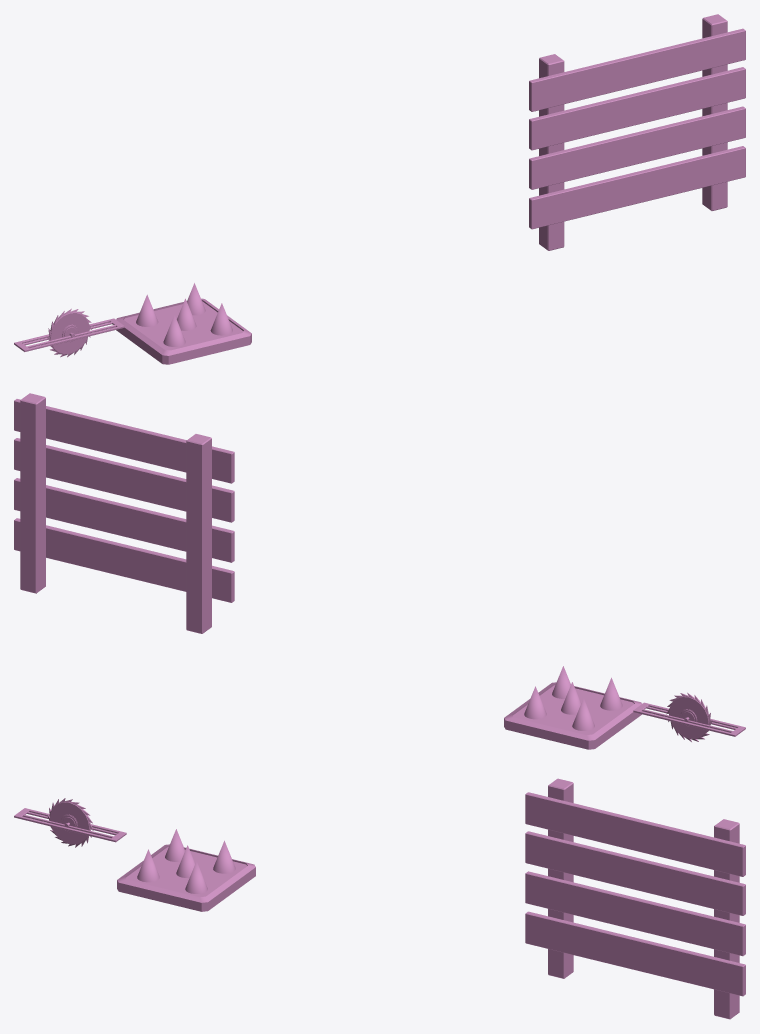
File: Traps.fbx
3 renders of one model, top to bottom at view 1: azimuth 30°, elevation 25°; view 2: azimuth 150°, elevation 25°; view 3: azimuth 330°, elevation 25°, orthographic.
Parts seen in each view (by area): view 1: Plank2, Plank, Plank3, Plank1, Base, Supporter, Supporter1, pCylinder1, pCube1; view 2: Plank2, Plank, Plank1, Plank3, Supporter1, Supporter, Base, pCylinder1, pCube1; view 3: Plank, Plank3, Plank1, Plank2, Base, Supporter1, Supporter, pCylinder1, pCube1, Spike, Spike4, Spike1.
Boxes of the visible parts, bbox=[...] form: Plank2: bbox=[529, 28, 745, 111]; Plank: bbox=[529, 146, 745, 229]; Plank3: bbox=[529, 106, 745, 189]; Plank1: bbox=[529, 67, 745, 150]; Base: bbox=[116, 298, 251, 364]; Supporter: bbox=[539, 54, 564, 250]; Supporter1: bbox=[702, 14, 727, 210]; pCylinder1: bbox=[46, 308, 91, 357]; pCube1: bbox=[14, 318, 124, 351]; Plank2: bbox=[14, 399, 234, 483]; Plank: bbox=[14, 518, 234, 602]; Plank1: bbox=[14, 438, 234, 522]; Plank3: bbox=[14, 478, 234, 562]; Supporter1: bbox=[20, 393, 45, 593]; Supporter: bbox=[186, 434, 211, 633]; Base: bbox=[504, 682, 641, 749]; pCylinder1: bbox=[666, 692, 712, 741]; pCube1: bbox=[633, 702, 745, 736]; Plank: bbox=[525, 911, 745, 996]; Plank3: bbox=[525, 871, 745, 956]; Plank1: bbox=[525, 831, 745, 915]; Plank2: bbox=[525, 792, 745, 876]; Base: bbox=[117, 844, 255, 911]; Supporter1: bbox=[714, 819, 739, 1019]; Supporter: bbox=[548, 778, 573, 978]; pCylinder1: bbox=[47, 798, 93, 847]; pCube1: bbox=[14, 808, 126, 842]; Spike: bbox=[213, 840, 235, 873]; Spike4: bbox=[137, 849, 159, 882]; Spike1: bbox=[185, 861, 207, 893].
Bounding box in the file's own units: 8.04 × 2 × 1.
